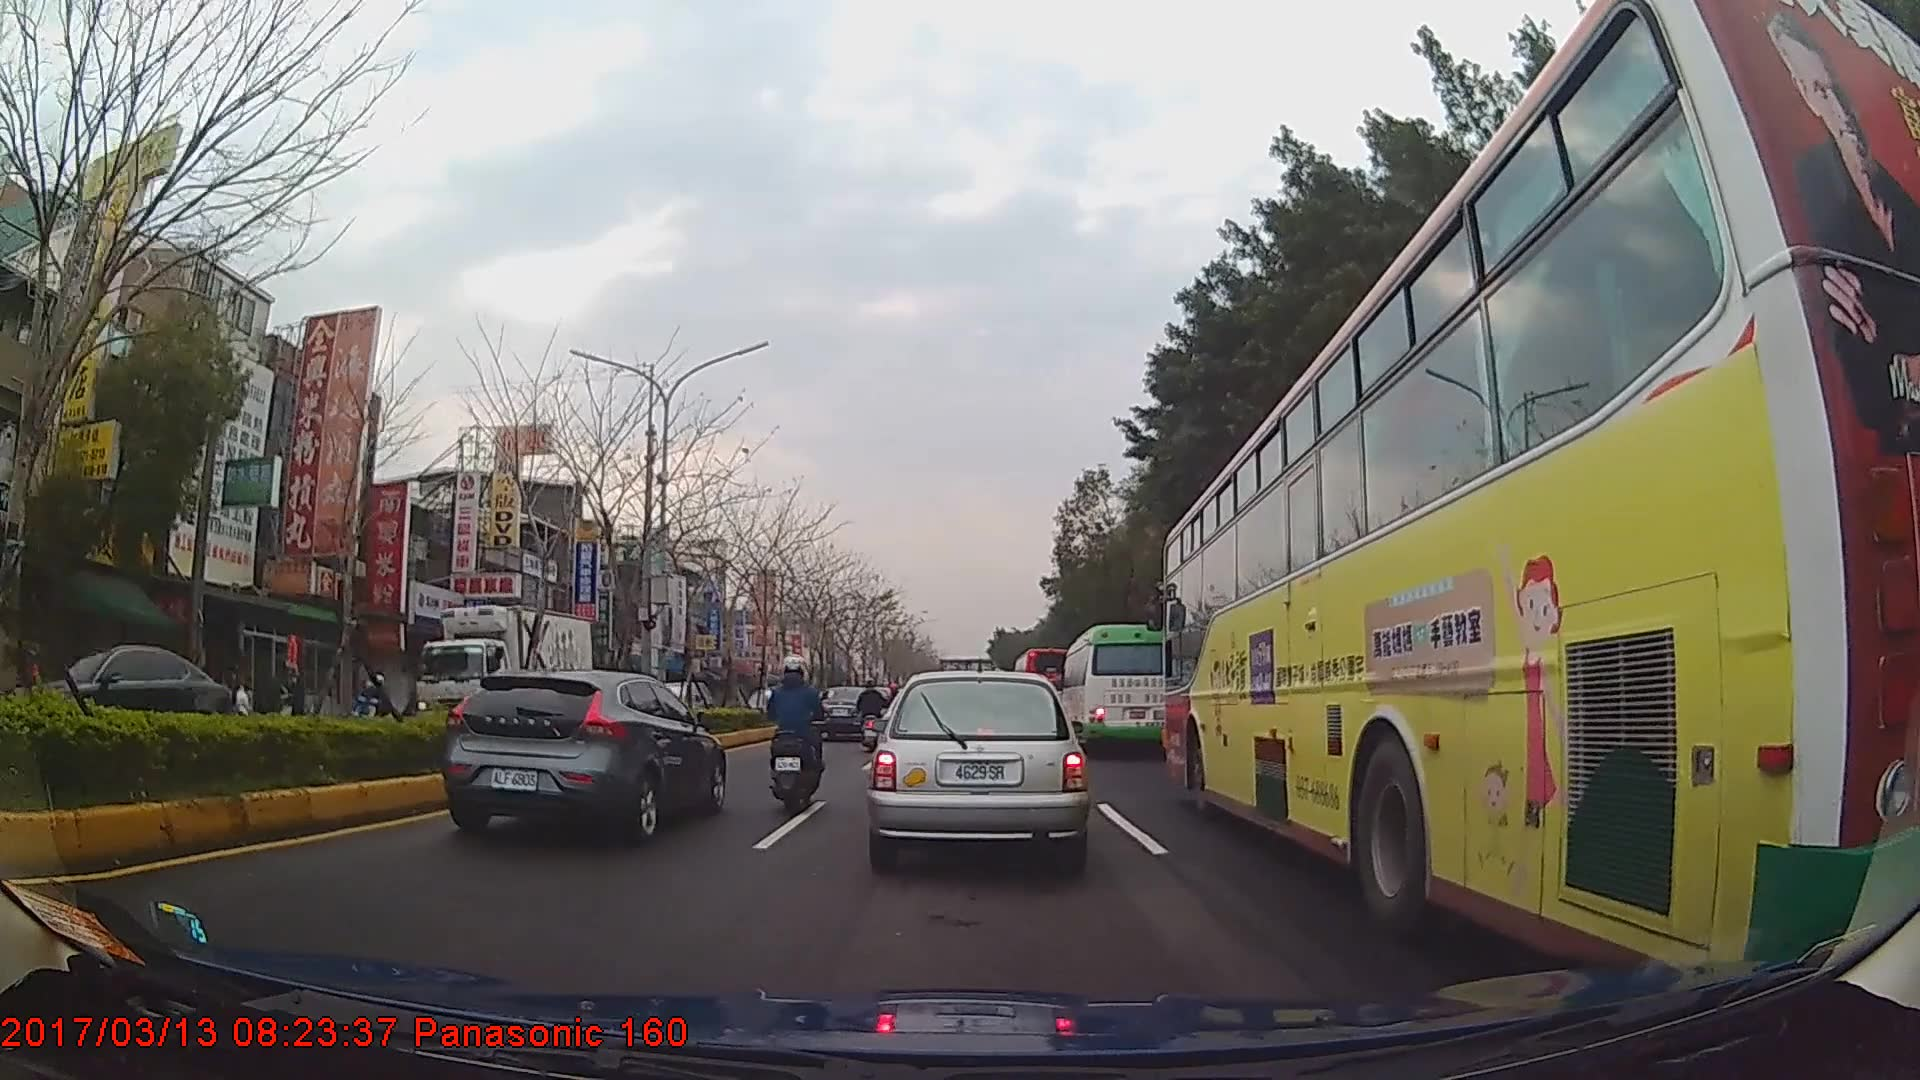rider: (766, 655, 831, 803), (858, 680, 890, 750), (349, 675, 389, 723), (274, 670, 307, 719)
vehicle: (1162, 0, 1920, 1018), (440, 667, 727, 845), (867, 674, 1088, 875), (11, 643, 232, 775), (413, 605, 594, 748), (1058, 624, 1175, 756), (1012, 644, 1076, 716), (815, 684, 879, 741)
